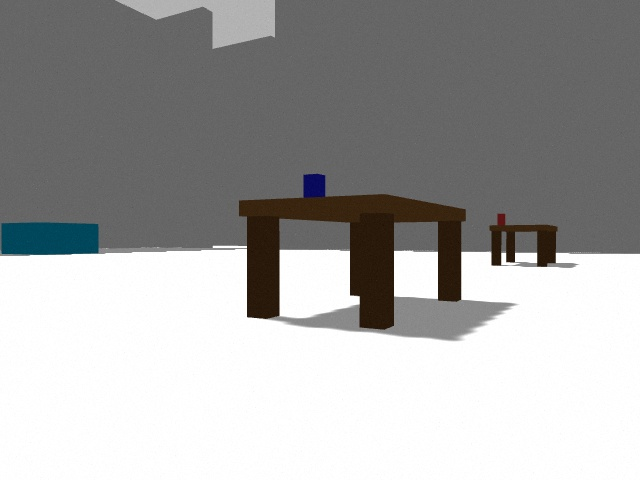blue_cube: (303, 174, 325, 197)
blue_drop_zone: (0, 222, 99, 255)
